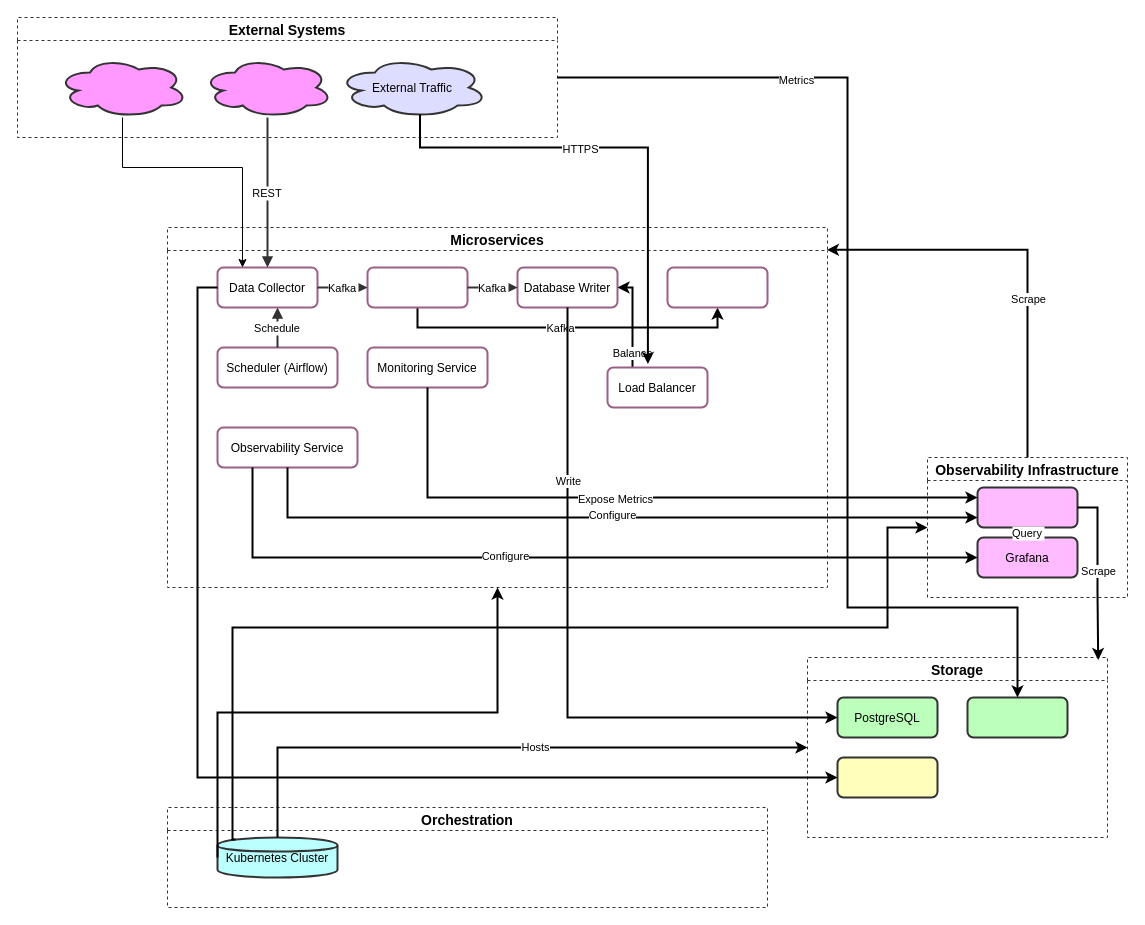
This 1145x925 diagram has some shape labels left out. Here are the shapes that lost their labels. From the top down, the centre of each, then its label:
At point (122, 87): "yFinance lib".
At point (267, 87): "TwelveData Api".
At point (417, 287): "Data Processor".
At point (717, 287): "File Writer".
At point (1027, 507): "Prometheus".
At point (1017, 717): "InfluxDB".
At point (887, 777): "AWS S3".
